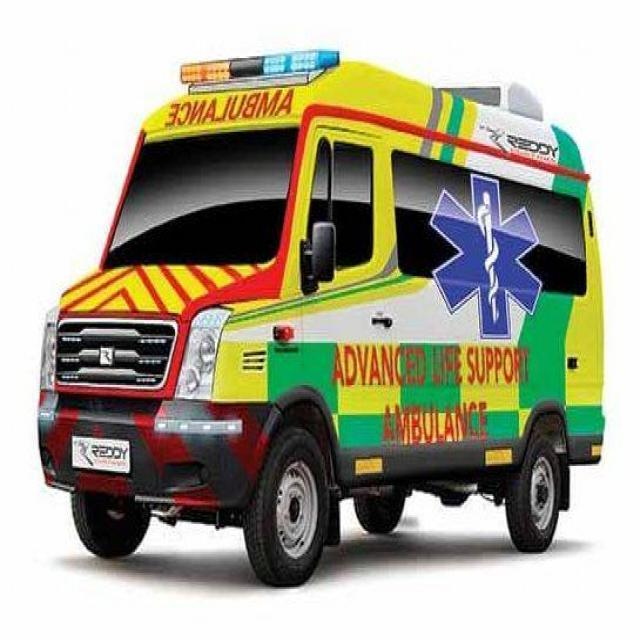emergency-vehicle: (29, 29, 618, 567)
